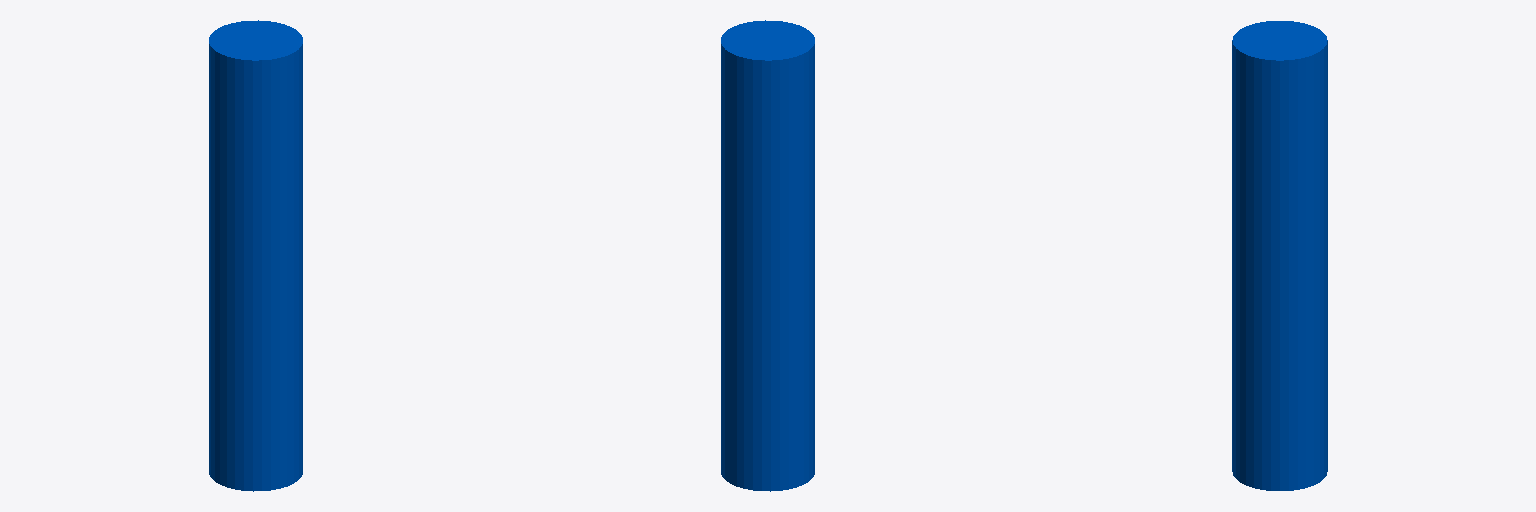
URDF robot description (car):
<robot name="car">
    <link name="base_link">
        <visual>
            <geometry >
                <!-- <cylinder radius="1" length="2" /> -->
                <!-- <sphere radius="0.5" /> -->
                <!-- <box size="1 1 1" /> -->
                <mesh filename="package://urdf1/meshes/autolabor_mini.stl"/>    
            </geometry>
            <origin xyz= "3 0 0" rpy="1.58 0 0"/>
            <material name = "white">
                <color rgba = "1 1 1 0.5"/>
            </material> 
        </visual>
    </link>
    <link name="camera_link">
        <visual>
            <geometry>
                <cylinder radius="0.01" length="0.1"/>
            </geometry>
            <material name="blue">
                <color rgba="0 0.4 0.8 1"/>
            </material>
            <origin xyz="3 0 0.05" rpy="0 0 0"/>   
        </visual>
    </link>     
    <joint name="base_link_to_map" type="fixed">
        <parent link="base_link"/>
        <child link="camera_link"/>
        <origin xyz="0 0 0" rpy="0 0 0"/>
    </joint>
</robot>

--- What the picture shows (computed from the rendered views, not written in the file) ---
The picture shows the robot from 3 angles, left to right: view 1: azimuth 30°, elevation 25°; view 2: azimuth 150°, elevation 25°; view 3: azimuth 270°, elevation 25°; orthographic projection.
Robot: car — 2 links, 1 joints (1 fixed); root link base_link; default pose: all joints at 0.
Links seen in each view (by area): view 1: camera_link; view 2: camera_link; view 3: camera_link.
Link boxes in pixels (x1=…): camera_link: x1=209, y1=20, x2=302, y2=491; camera_link: x1=721, y1=20, x2=814, y2=491; camera_link: x1=1232, y1=21, x2=1327, y2=490.
Size in the robot's own frame: 0.02 by 0.02 by 0.1 metres.
0 mesh visuals loaded from 1 distinct referenced files (none loaded); not drawn: 1 (reference not matched to a file when rendering).